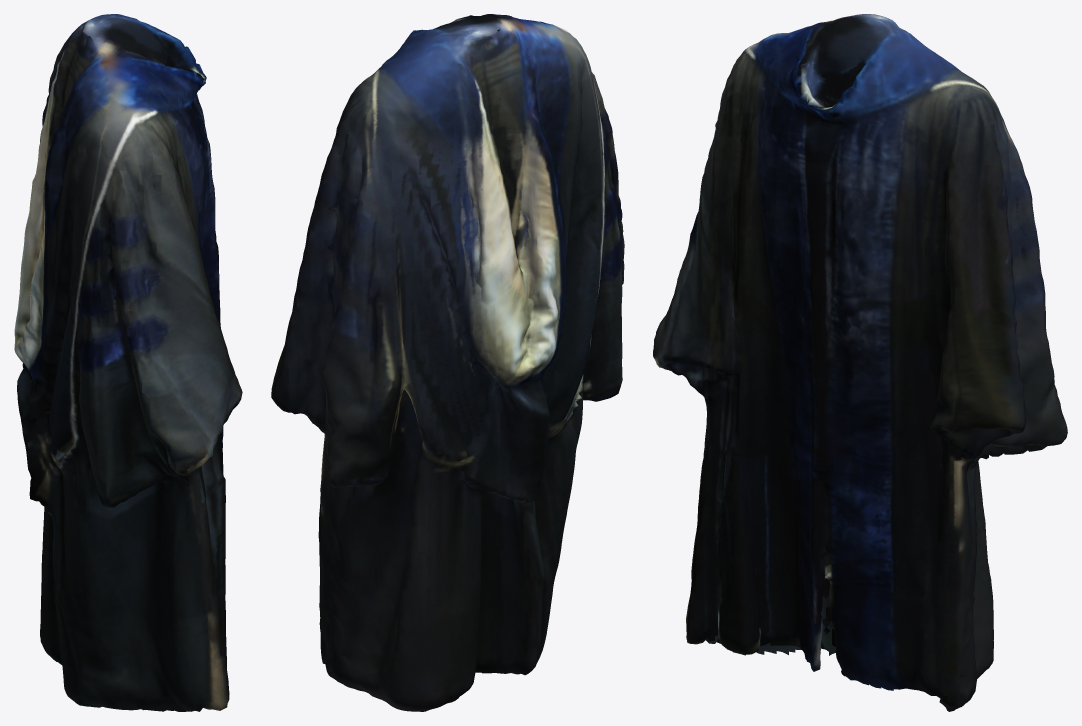
File: gown.glb
3 renders of one model, left to right at view 1: azimuth 30°, elevation 25°; view 2: azimuth 150°, elevation 25°; view 3: azimuth 270°, elevation 25°, orthographic. The views are drawn at different scales.
Visible parts, largest first — view 1: Object_2; view 2: Object_2; view 3: Object_2.
Boxes of the visible parts, x1,y1,x2,y2 form: Object_2: (14,14,242,711); Object_2: (271,14,624,711); Object_2: (653,14,1067,711).
Bounding box in the file's own units: 0.4673 × 1.3 × 0.7545.
Materials: 1 (1 with a texture image).
